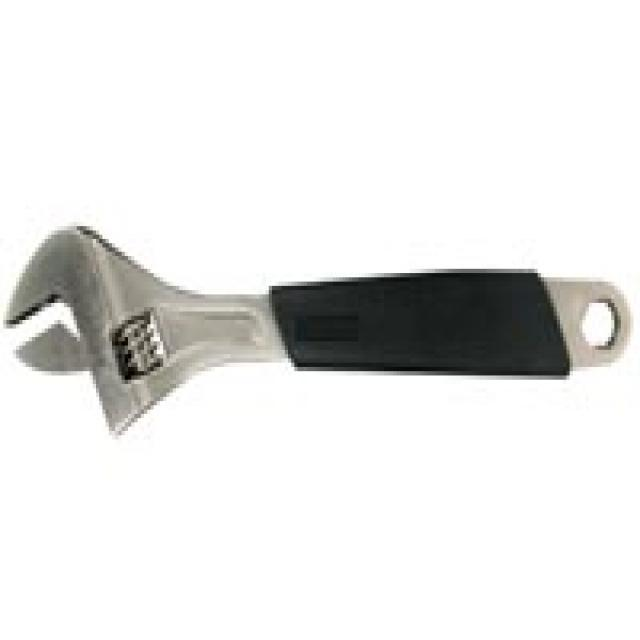wrench: (0, 212, 640, 444)
